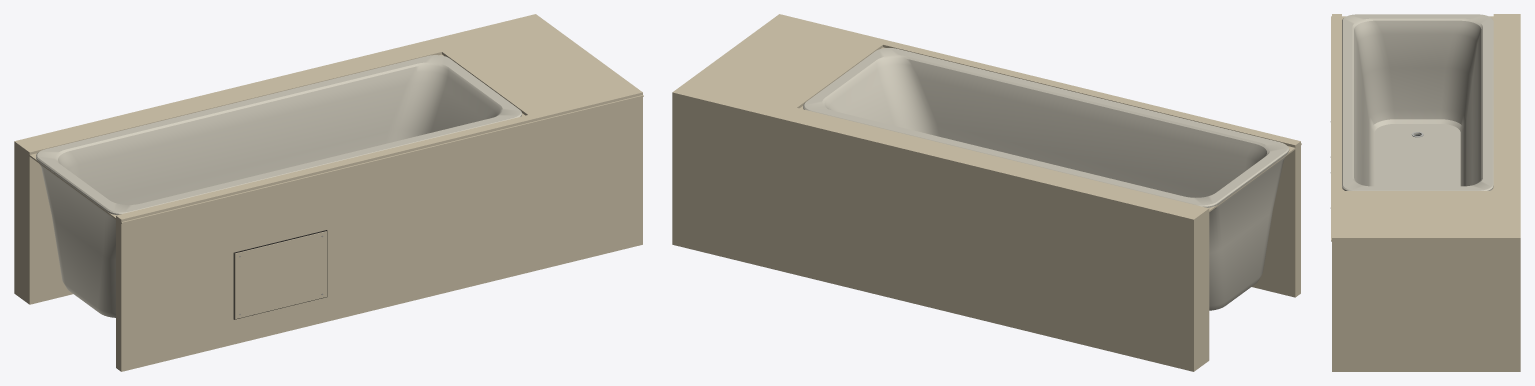
Rendered from bathtub-alcove-r-b516a71e1317.glb.
The picture shows the model from 3 angles, left to right: view 1: azimuth 30°, elevation 25°; view 2: azimuth 150°, elevation 25°; view 3: azimuth 270°, elevation 25°; orthographic projection. The views are drawn at different scales.
Parts seen in each view (by area): view 1: tile, enamel; view 2: tile, enamel; view 3: tile, enamel.
Boxes of the visible parts, x1,y1,x2,y2 form: tile: [14, 14, 643, 371]; enamel: [36, 55, 521, 317]; tile: [672, 14, 1301, 371]; enamel: [803, 48, 1289, 310]; tile: [1331, 14, 1520, 371]; enamel: [1342, 14, 1493, 190].
Bounding box in the file's own units: 2.15 × 0.6 × 0.7719.
